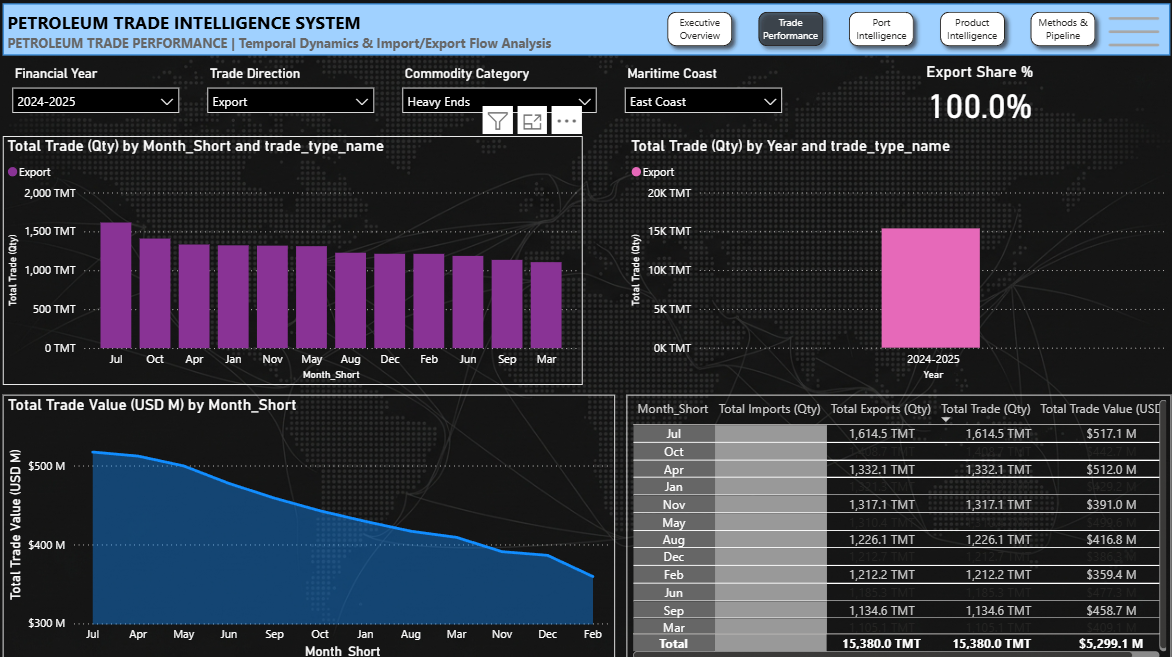

The page's visual inventory and layout, read from the dashboard file:
{"tool":"powerbi","page":{"name":"Trade Performance","canvas":[1280,720],"ordinal":1},"visuals":[{"type":"slicer","fields":{"Values":["Dim_Date.Year"]},"box":[10,70,200,70],"z":0},{"type":"slicer","fields":{"Values":["Dim_TradeType.trade_type_name"]},"box":[220,70,200,70],"z":1000},{"type":"slicer","fields":{"Values":["Dim_Product.category"]},"box":[430,70,230,70],"z":2000},{"type":"slicer","fields":{"Values":["Dim_Port.coast"]},"box":[670,70,190,70],"z":3000},{"type":"card","title":"Export Share %","fields":{"Values":["_Measures.Export Share %"]},"box":[929,71.4,269,70],"z":4000},{"type":"lineClusteredColumnComboChart","fields":{"Category":["Dim_Date.Month_Short"],"Series":["Dim_TradeType.trade_type_name"],"Y":["_Measures.Total Trade (Qty)"]},"box":[9.6,150.9,625.7,269],"z":6000},{"type":"clusteredColumnChart","fields":{"Category":["Dim_Date.Year"],"Series":["Dim_TradeType.trade_type_name"],"Y":["_Measures.Total Trade (Qty)"]},"box":[682.6,151.1,588.2,268.5],"z":7000},{"type":"areaChart","fields":{"Category":["Dim_Date.Month_Short"],"Y":["_Measures.Total Trade Value (USD M)"]},"box":[9.4,430.4,661,290.1],"z":8000},{"type":"tableEx","fields":{"Values":["Dim_Date.Month_Short","_Measures.Total Imports (Qty)","_Measures.Total Exports (Qty)","_Measures.Total Trade (Qty)","_Measures.Total Trade Value (USD M)"]},"box":[682.6,430.4,588.2,290.1],"z":9000},{"type":"shape","box":[10,8,1260,56],"z":10000},{"type":"textbox","box":[10,11.4,852.9,58.6],"z":11000},{"type":"pageNavigator","box":[717.1,8.6,484.3,55.7],"z":12000},{"type":"image","box":[1192.6,0,78.6,80],"z":12001}]}

Visuals, with their boxes in screenshot pixels (x1, y1, x2, y2), scaled from the page's 1280x720 canvas onto the 1172x657 screenshot:
slicer - Dim_Date.Year: locate(9, 64, 192, 128)
slicer - Dim_TradeType.trade_type_name: locate(201, 64, 385, 128)
slicer - Dim_Product.category: locate(394, 64, 604, 128)
slicer - Dim_Port.coast: locate(613, 64, 787, 128)
"Export Share %" card: locate(851, 65, 1097, 129)
lineClusteredColumnComboChart - Dim_Date.Month_Short x Dim_TradeType.trade_type_name: locate(9, 138, 582, 383)
clusteredColumnChart - Dim_Date.Year x Dim_TradeType.trade_type_name: locate(625, 138, 1164, 383)
areaChart - Dim_Date.Month_Short x _Measures.Total Trade Value (USD M): locate(9, 393, 614, 656)
tableEx - Dim_Date.Month_Short x _Measures.Total Imports (Qty): locate(625, 393, 1164, 656)
shape: locate(9, 7, 1163, 58)
textbox: locate(9, 10, 790, 64)
pageNavigator: locate(657, 8, 1100, 59)
image: locate(1092, 0, 1164, 73)
